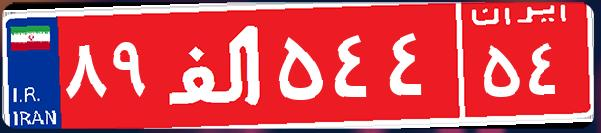4: (385, 28, 445, 110), (330, 28, 385, 110), (525, 38, 570, 115)
5: (273, 28, 330, 110), (475, 38, 525, 113)
8: (57, 26, 110, 107)
9: (110, 28, 158, 105)
الف: (158, 15, 273, 115)
